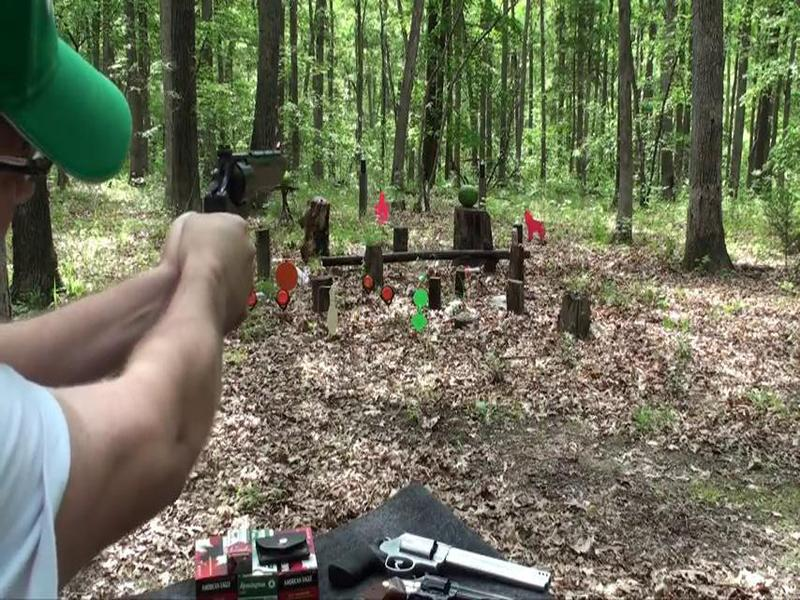Revolver: (177, 129, 306, 247)
